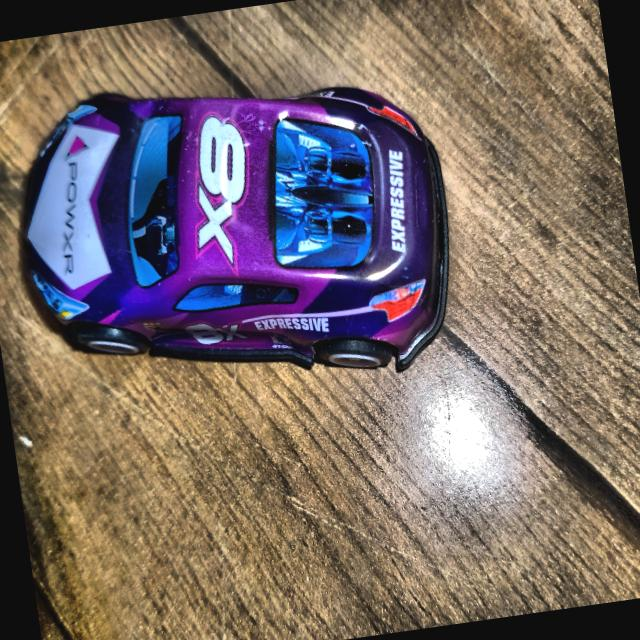Car: (8, 49, 468, 418)
